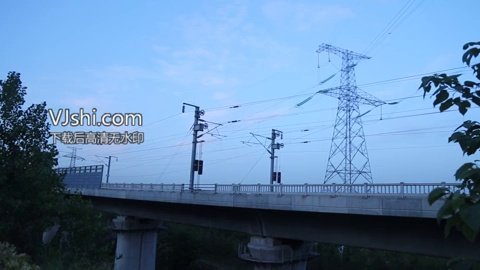tower_body: (313, 40, 382, 187)
tower_foot: (321, 157, 375, 183)
tower_head: (315, 43, 374, 64)
